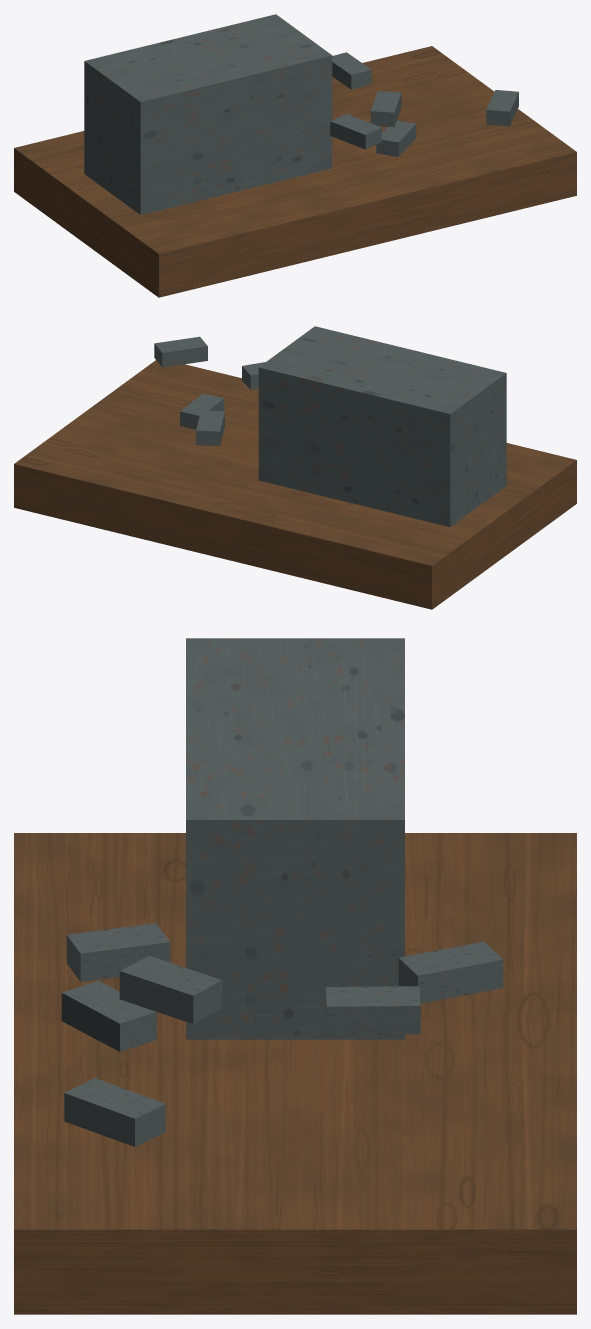
The model's file is cs-016_radio_repair_station__broken.obj.
3 views of the same model, one above another, from view 1: azimuth 30°, elevation 25°; view 2: azimuth 150°, elevation 25°; view 3: azimuth 270°, elevation 25° (orthographic). The views are drawn at different scales.
Visible parts, largest first — view 1: cs-016_radio_repair_station__broken; view 2: cs-016_radio_repair_station__broken; view 3: cs-016_radio_repair_station__broken.
Boxes of the visible parts, x1,y1,x2,y2 form: cs-016_radio_repair_station__broken: (14, 14, 576, 297); cs-016_radio_repair_station__broken: (14, 326, 576, 609); cs-016_radio_repair_station__broken: (14, 638, 576, 1314).
Size of the model in its own units: 1.2 by 0.43 by 0.72.
2 materials, 2 textured.
